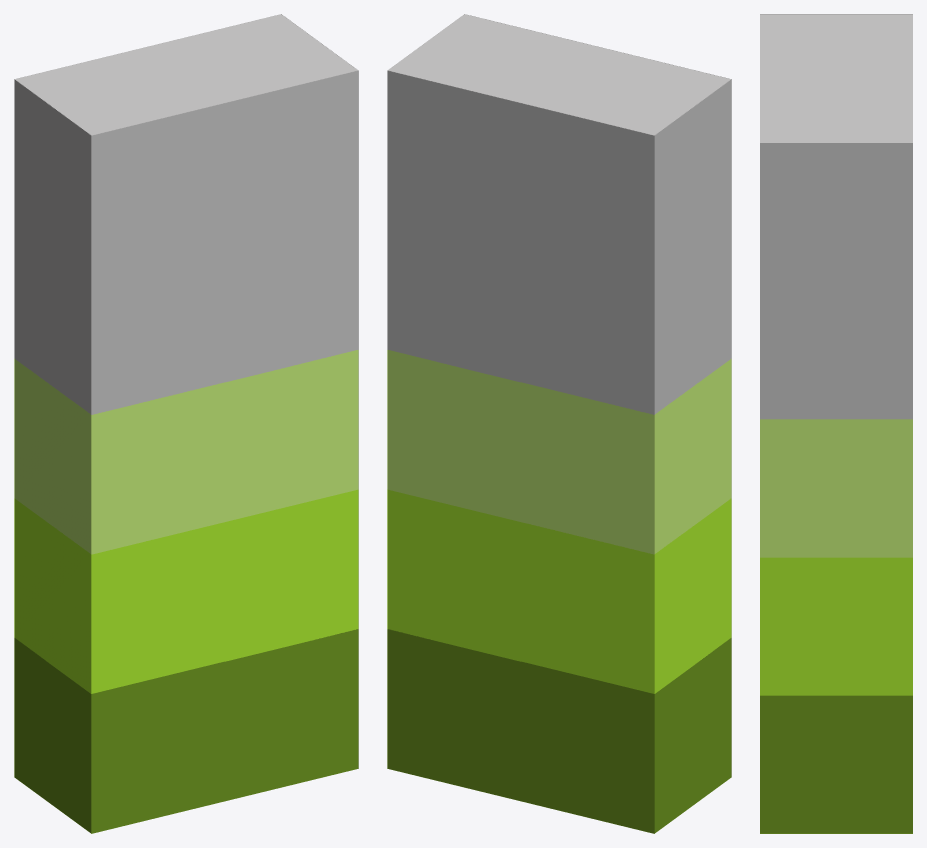
The model's file is Terra Lord Front Finger.obj.
3 views of the same model, side by side, from view 1: azimuth 30°, elevation 25°; view 2: azimuth 150°, elevation 25°; view 3: azimuth 270°, elevation 25° (orthographic).
Parts seen in each view (by area): view 1: Terra Lord Front Finger; view 2: Terra Lord Front Finger; view 3: Terra Lord Front Finger.
Boxes of the visible parts, bbox=[...] form: Terra Lord Front Finger: bbox=[14, 14, 358, 833]; Terra Lord Front Finger: bbox=[387, 14, 731, 833]; Terra Lord Front Finger: bbox=[760, 14, 912, 833].
Size of the model in its own units: 2 by 5 by 1.
Materials: 1 (1 with a texture image).
